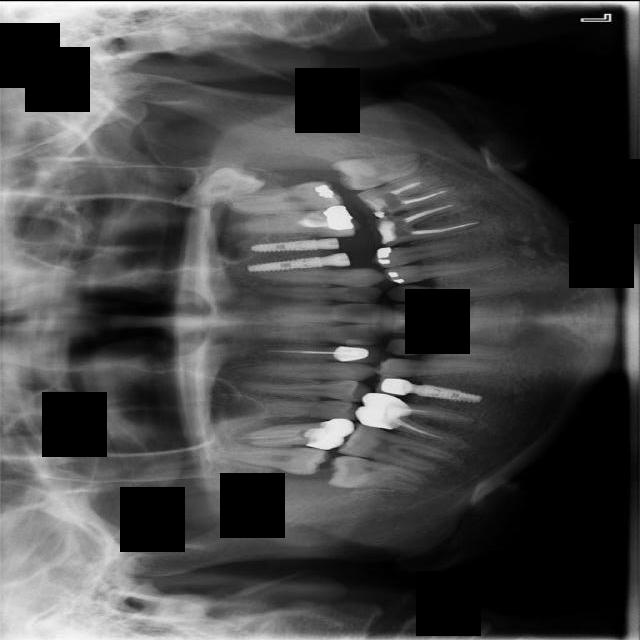52: (353, 389, 415, 432), (357, 180, 399, 225), (309, 203, 362, 237), (295, 177, 345, 212), (305, 417, 356, 449), (332, 321, 384, 347), (373, 211, 407, 249), (372, 371, 414, 397), (369, 245, 414, 269), (384, 262, 424, 286), (333, 343, 381, 363)
73: (392, 393, 476, 452), (381, 159, 466, 216), (398, 192, 482, 244), (218, 422, 313, 451), (255, 344, 340, 361), (554, 34, 562, 38)
BioHorizons Implant: (219, 176, 346, 223)
BioLife Implant: (166, 156, 270, 214)
Biomet 3i Implant: (332, 150, 424, 192)
Blue Sky Bio Implant: (355, 160, 467, 225)
Caries: (209, 440, 330, 477)
Implant: (336, 417, 458, 476)
Keystone Dental Implant: (326, 453, 427, 494)
